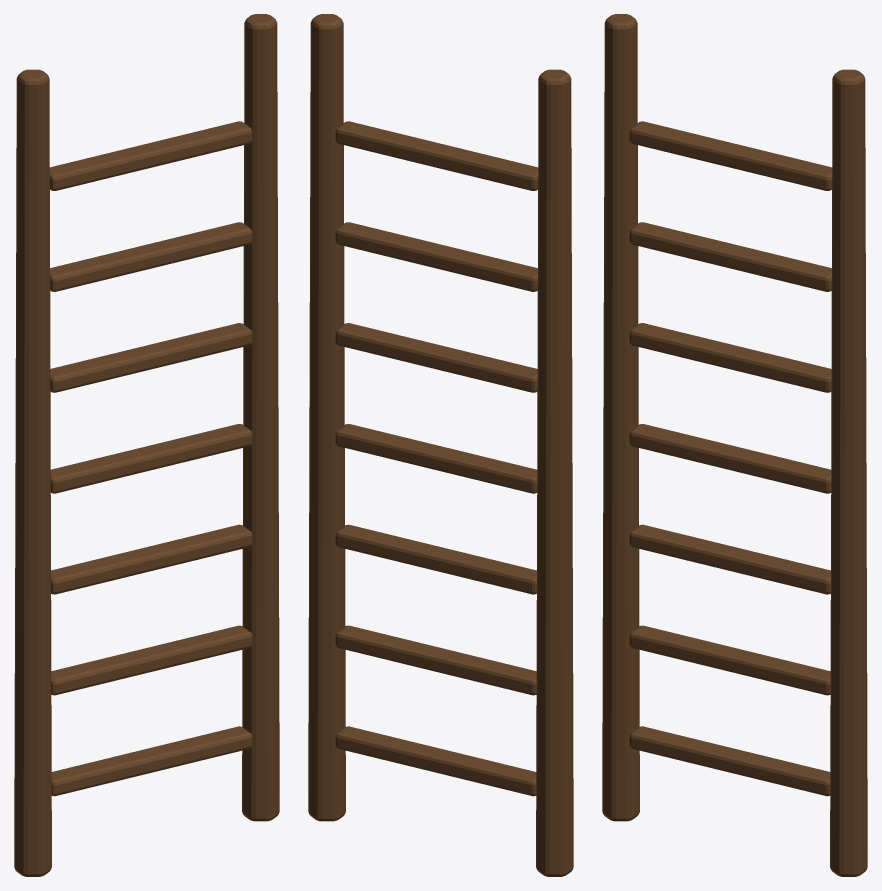
File: ladder.glb
3 renders of one model, left to right at view 1: azimuth 30°, elevation 25°; view 2: azimuth 150°, elevation 25°; view 3: azimuth 330°, elevation 25°, orthographic.
Visible parts, largest first — view 1: Cone.001, Cone, Cube.006, Cube.004, Cube.003, Cube.005, Cube.002, Cube.001, Cube; view 2: Cone.001, Cone, Cube.006, Cube.004, Cube.003, Cube.005, Cube.002, Cube.001, Cube; view 3: Cone, Cone.001, Cube.006, Cube.004, Cube.003, Cube.005, Cube.002, Cube.001, Cube.
Boxes of the visible parts, box(x1,y1,x2,y2) form: Cone.001: box(14, 69, 51, 876); Cone: box(242, 14, 279, 821); Cube.006: box(49, 121, 252, 190); Cube.004: box(50, 323, 252, 392); Cube.003: box(50, 424, 252, 493); Cube.005: box(50, 222, 252, 291); Cube.002: box(51, 524, 252, 594); Cube.001: box(51, 625, 252, 695); Cube: box(51, 726, 252, 796); Cone.001: box(536, 69, 573, 876); Cone: box(308, 14, 345, 821); Cube.006: box(335, 121, 538, 190); Cube.004: box(335, 323, 537, 392); Cube.003: box(335, 424, 537, 493); Cube.005: box(335, 222, 537, 291); Cube.002: box(335, 524, 536, 594); Cube.001: box(335, 625, 536, 695); Cube: box(335, 726, 536, 796); Cone: box(830, 69, 867, 876); Cone.001: box(602, 14, 639, 821); Cube.006: box(629, 121, 832, 190); Cube.004: box(629, 323, 831, 392); Cube.003: box(629, 424, 831, 493); Cube.005: box(629, 222, 831, 291); Cube.002: box(629, 524, 830, 594); Cube.001: box(629, 625, 830, 695); Cube: box(629, 726, 830, 796).
Bounding box in the file's own units: 0.5892 × 1.74 × 0.0747.
